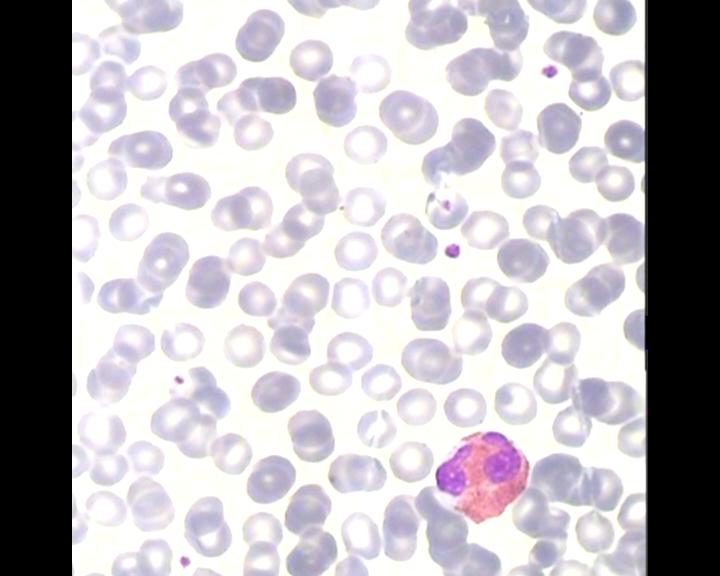eosi: (431, 427, 532, 525)
